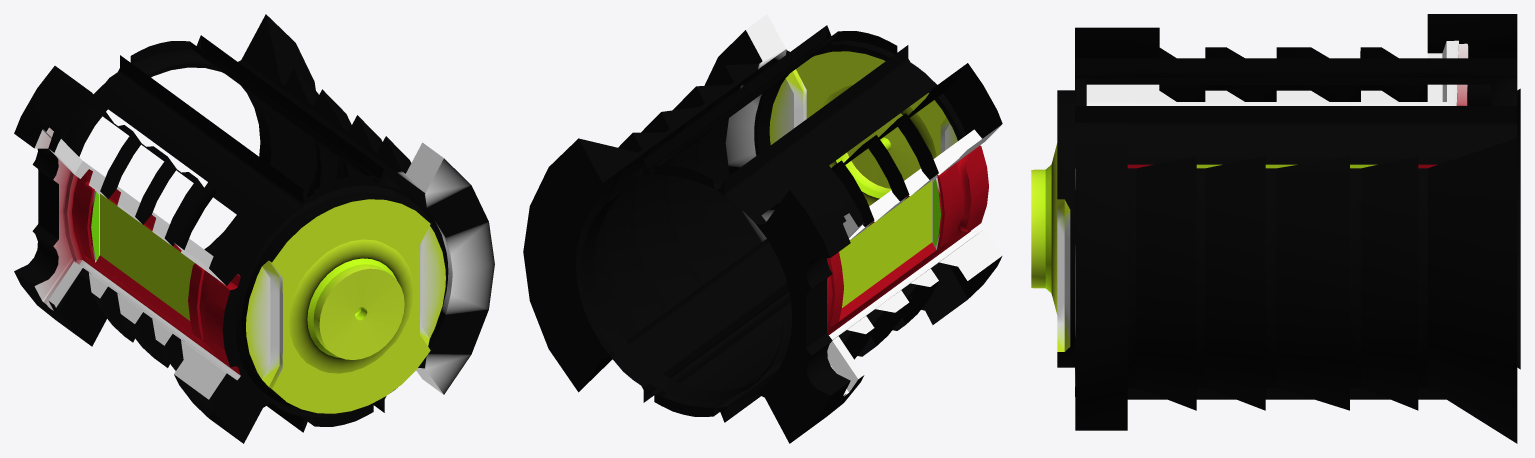
Rendered from part_main-lod0.dae.
3 renders of one model, left to right at view 1: azimuth 30°, elevation 25°; view 2: azimuth 150°, elevation 25°; view 3: azimuth 270°, elevation 25°, orthographic. The views are drawn at different scales.
Visible parts, largest first — view 1: part_main-lod0Xlod0Xp2genericXgen_p2_hullpattern_01, part_main-lod0Xlod0Xp2genericXgen_p2_hulltextureaged_02, part_main-lod0Xlod0Xp2genericXgen_p2_hulltexture_02_c, part_main-lod0Xlod0Xp2multimatXp2_multimat_01; view 2: part_main-lod0Xlod0Xp2genericXgen_p2_hulltextureaged_02, part_main-lod0Xlod0Xp2genericXgen_p2_hullpattern_01, part_main-lod0Xlod0Xp2genericXgen_p2_hulltexture_02_c, part_main-lod0Xlod0Xp2multimatXp2_multimat_01; view 3: part_main-lod0Xlod0Xp2genericXgen_p2_hulltextureaged_02, part_main-lod0Xlod0Xp2genericXgen_p2_hulltexture_02_c, part_main-lod0Xlod0Xp2genericXgen_p2_hullpattern_01, part_main-lod0Xlod0Xp2multimatXp2_multimat_01.
Part boxes in pixels (<box>): part_main-lod0Xlod0Xp2genericXgen_p2_hullpattern_01: <box>14,14,494,443</box>; part_main-lod0Xlod0Xp2genericXgen_p2_hulltextureaged_02: <box>14,14,448,442</box>; part_main-lod0Xlod0Xp2genericXgen_p2_hulltexture_02_c: <box>93,35,445,432</box>; part_main-lod0Xlod0Xp2multimatXp2_multimat_01: <box>72,169,404,417</box>; part_main-lod0Xlod0Xp2genericXgen_p2_hulltextureaged_02: <box>575,30,988,408</box>; part_main-lod0Xlod0Xp2genericXgen_p2_hullpattern_01: <box>523,14,1002,443</box>; part_main-lod0Xlod0Xp2genericXgen_p2_hulltexture_02_c: <box>615,25,957,422</box>; part_main-lod0Xlod0Xp2multimatXp2_multimat_01: <box>827,114,967,334</box>; part_main-lod0Xlod0Xp2genericXgen_p2_hulltextureaged_02: <box>1031,40,1520,443</box>; part_main-lod0Xlod0Xp2genericXgen_p2_hulltexture_02_c: <box>1075,58,1517,399</box>; part_main-lod0Xlod0Xp2genericXgen_p2_hullpattern_01: <box>1070,14,1517,386</box>; part_main-lod0Xlod0Xp2multimatXp2_multimat_01: <box>1075,27,1437,168</box>.
Bounding box in the file's own units: 26.45 × 20.91 × 30.29.
